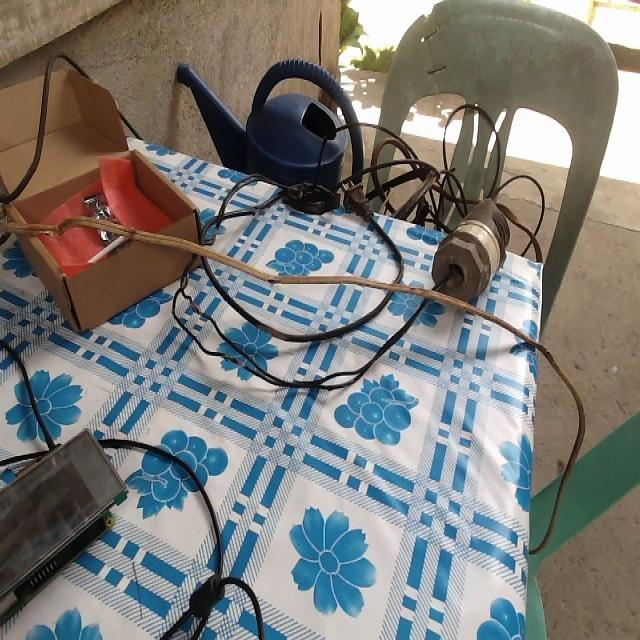-: (256, 318, 287, 342), (187, 297, 198, 312), (267, 276, 277, 280)
